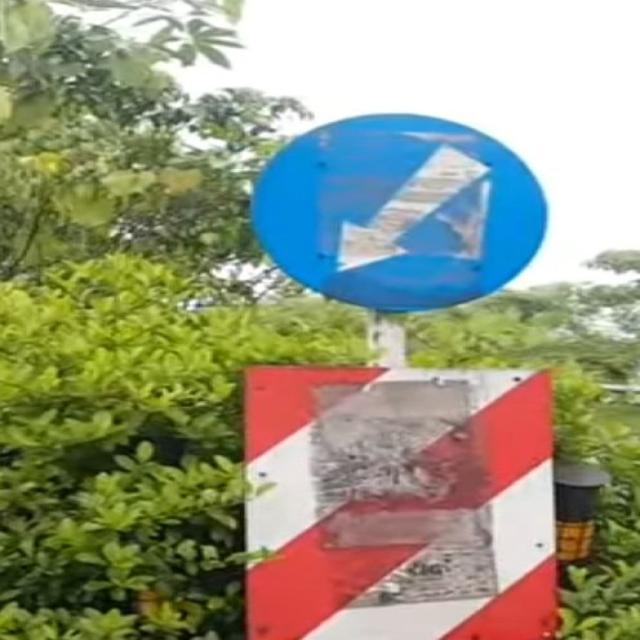compulsary keep left: (253, 106, 547, 311)
